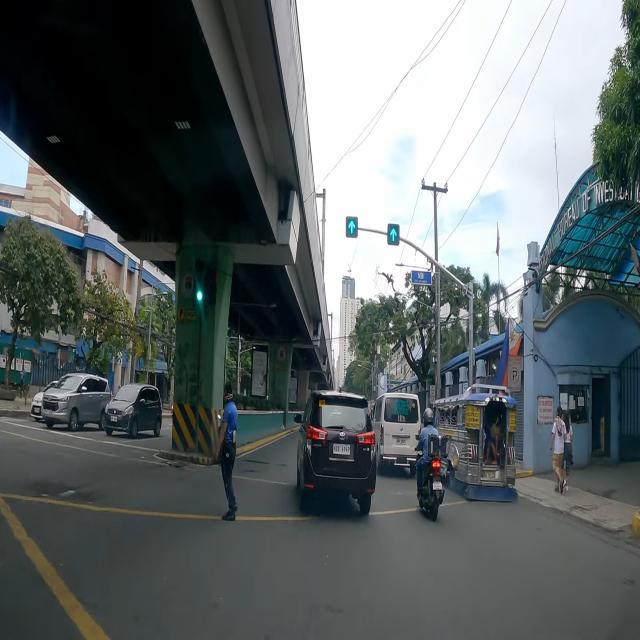car: (292, 390, 377, 515), (371, 392, 422, 476), (42, 374, 111, 431), (104, 383, 162, 438), (31, 381, 59, 421)
jeepney: (433, 386, 517, 502)
motorcycle: (416, 408, 448, 521)
